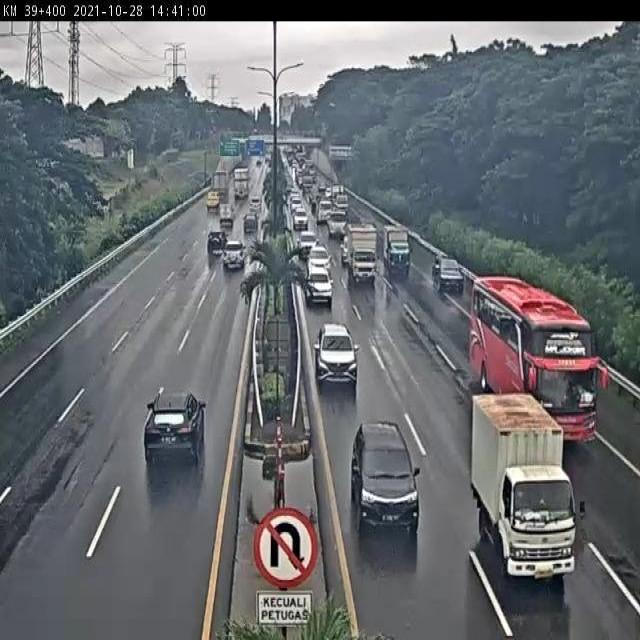bus-l-: (465, 269, 600, 447)
car: (351, 422, 421, 534), (144, 389, 206, 464), (313, 320, 359, 388), (431, 253, 465, 295), (304, 265, 334, 308), (221, 238, 247, 270), (205, 227, 230, 253)
truck-m-: (472, 394, 576, 578), (347, 222, 378, 282)
